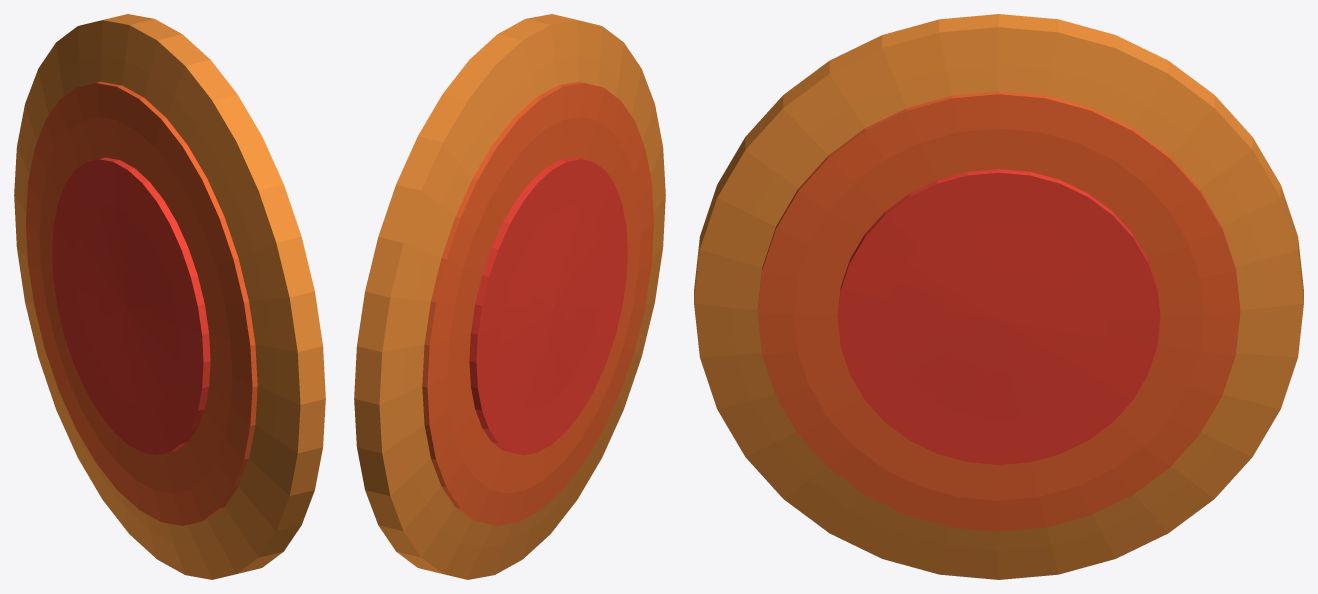
File: targetRed.fbx
3 renders of one model, left to right at view 1: azimuth 30°, elevation 25°; view 2: azimuth 150°, elevation 25°; view 3: azimuth 270°, elevation 25°, orthographic. The views are drawn at different scales.
Visible parts, largest first — view 1: Sphere; view 2: Sphere; view 3: Sphere.
Boxes of the visible parts, left/top/right/bottom form: Sphere: left=14, top=14, right=325, bottom=579; Sphere: left=354, top=14, right=665, bottom=579; Sphere: left=694, top=14, right=1303, bottom=579.
Size of the model in its own units: 3.77 by 21.01 by 21.01.
